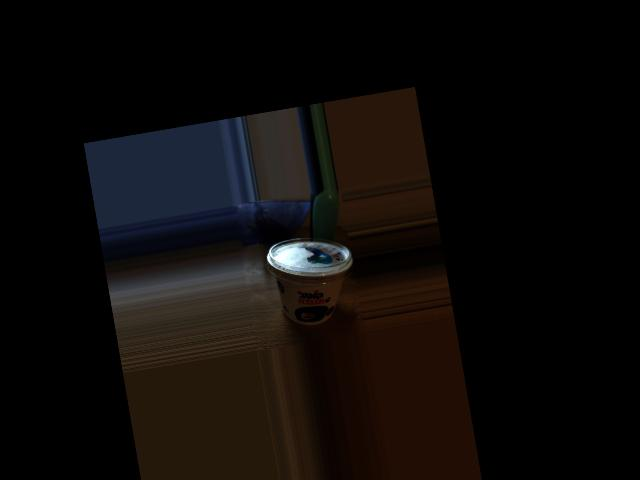cotage: (268, 231, 351, 323)
